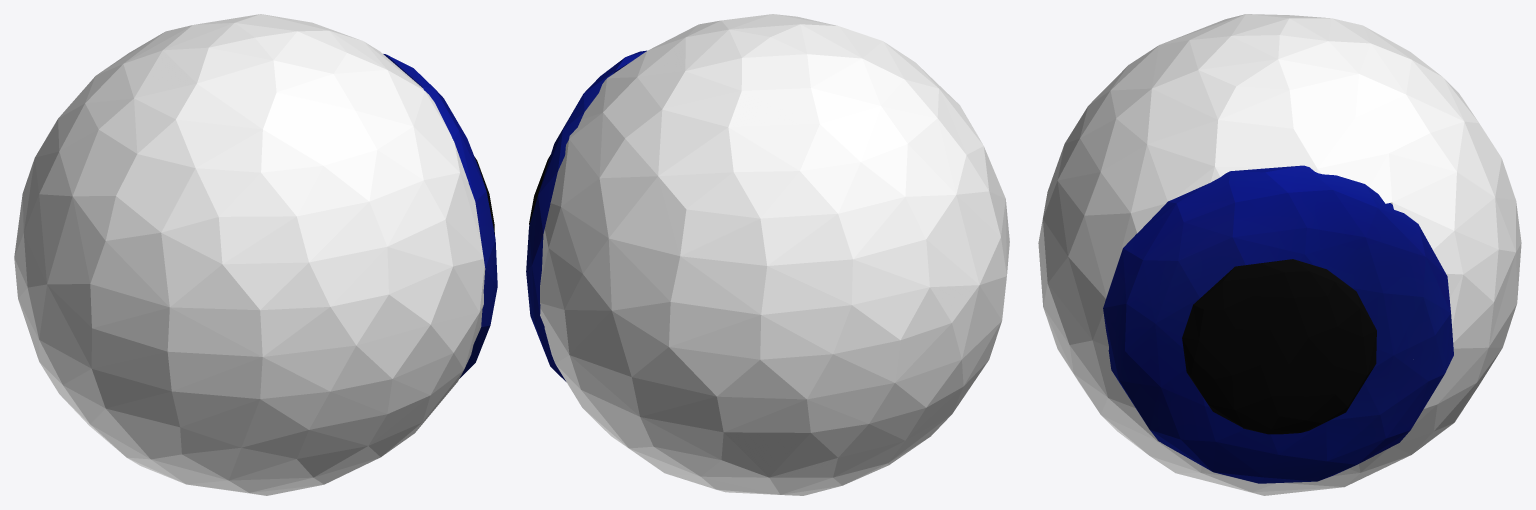
The model's file is eyeball.dae.
3 views of the same model, side by side, from view 1: azimuth 30°, elevation 25°; view 2: azimuth 150°, elevation 25°; view 3: azimuth 270°, elevation 25° (orthographic).
Visible parts, largest first — view 1: Sphere_001; view 2: Sphere_001; view 3: Sphere_001.
Boxes of the visible parts, <box> form: Sphere_001: <box>14,14,497,495</box>; Sphere_001: <box>526,14,1009,495</box>; Sphere_001: <box>1038,14,1521,495</box>.
Bounding box in the file's own units: 0.1391 × 0.1392 × 0.1391.
Materials: 1 (1 with a texture image).
